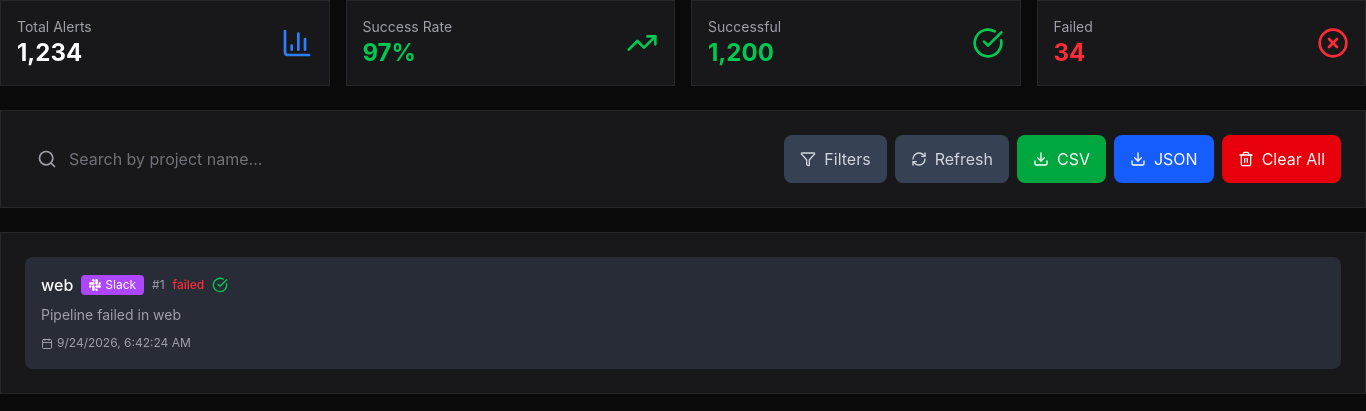
Test: AlertHistory › reloads with the new filters and shows the loading state meanwhile
Check: the text "Pipeline failed in web" is shown, box [41,306,181,323]
Type "api" into the field with placeholder "Search by project name...".
click(399, 159); type("api")  # box [25,135,772,183]
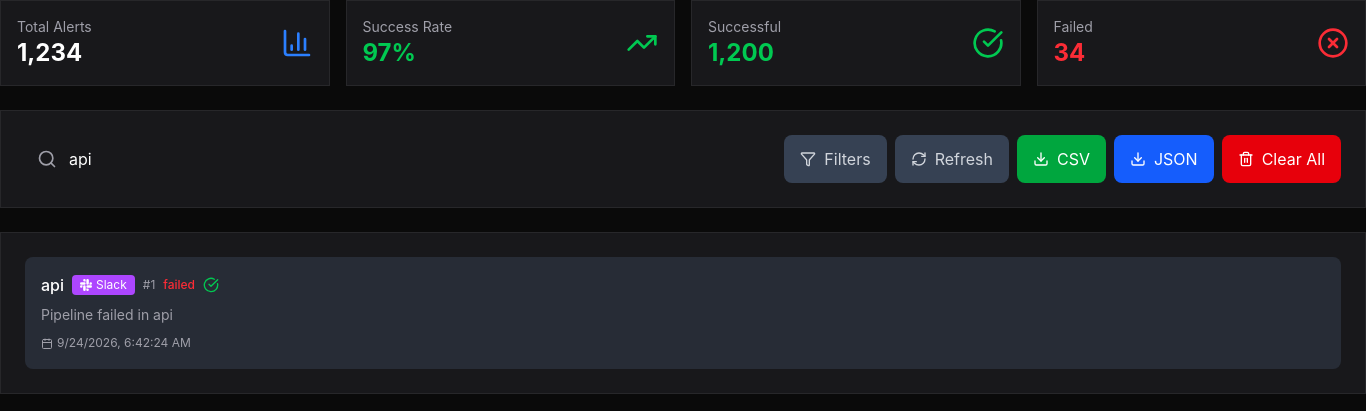
Check: the text "1,234" is shown, box [17,37,92,69]
Check: the text "Pipeline failed in api" is shown, box [41,306,173,323]
Check: the text "Pipeline failed in web" is gone
